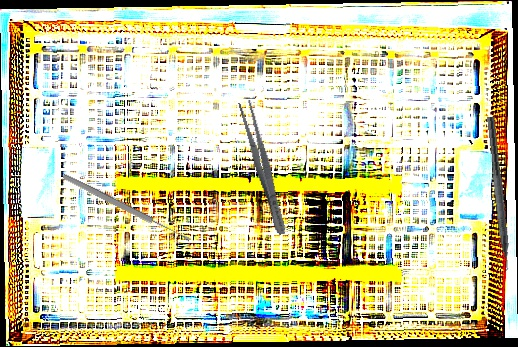Chopper: (475, 116, 515, 282)
Dressing Forceps: (235, 99, 291, 237)
Surgical Spoon: (61, 172, 192, 244)
